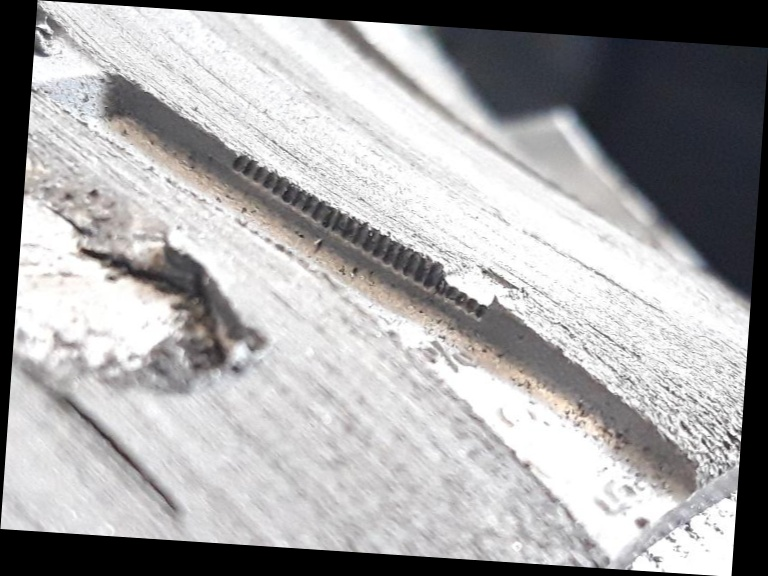temoin:0: (387, 214, 535, 335)
